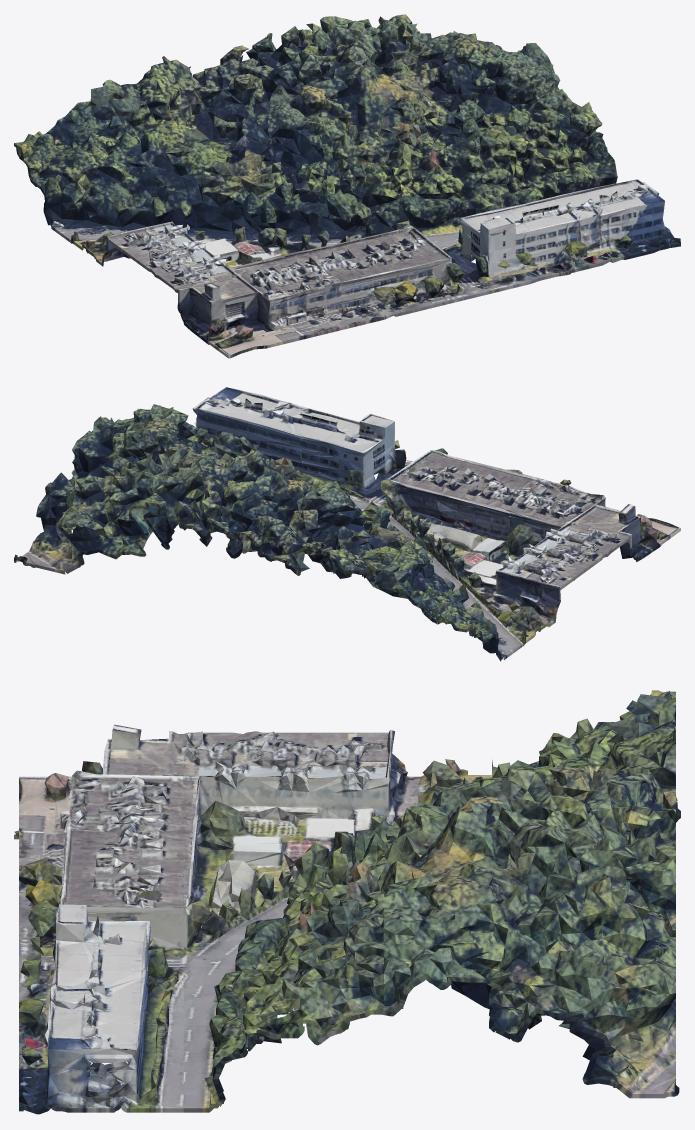
Rendered from Split18.fbx.
The picture shows the model from 3 angles, top to bottom: view 1: azimuth 30°, elevation 25°; view 2: azimuth 150°, elevation 25°; view 3: azimuth 270°, elevation 25°; orthographic projection. The views are drawn at different scales.
Parts seen in each view (by area): view 1: BuildingMesh-00012; view 2: BuildingMesh-00012; view 3: BuildingMesh-00012.
Boxes of the visible parts, x1=… form: BuildingMesh-00012: x1=14, y1=14, x2=680, y2=358; BuildingMesh-00012: x1=14, y1=387, x2=680, y2=661; BuildingMesh-00012: x1=14, y1=690, x2=680, y2=1114.
Bounding box in the file's own units: 195 × 50.57 × 162.
7 materials, 7 textured.
